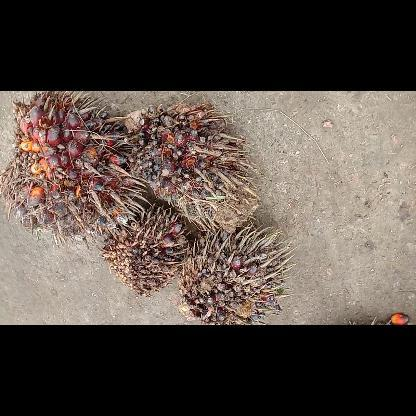TBS abnormal: (127, 101, 257, 227), (177, 226, 287, 322), (104, 202, 186, 294)
TBS masak: (1, 90, 143, 235)
